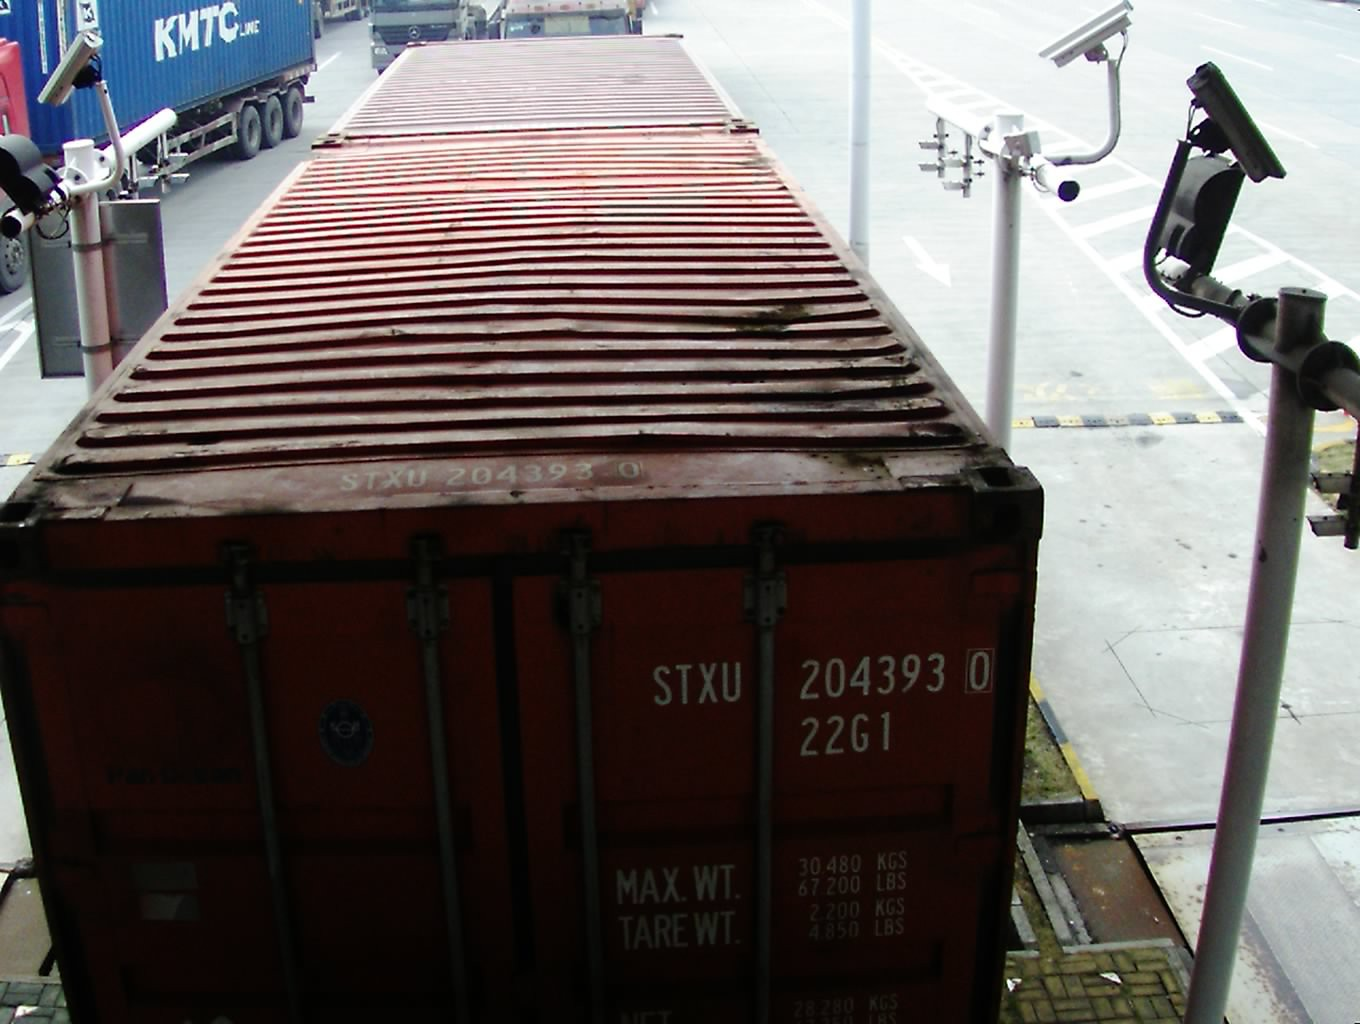words: (797, 648, 997, 703), (639, 653, 751, 713), (791, 703, 900, 762)
